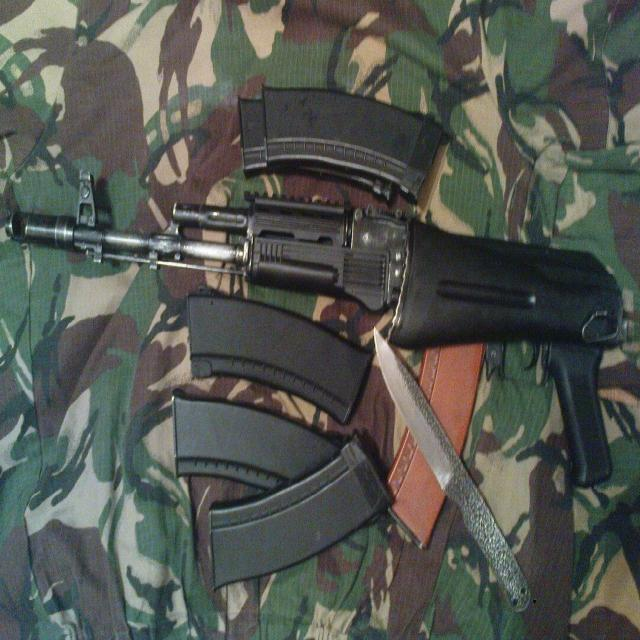firearm: (6, 169, 616, 486)
knife: (372, 326, 534, 616)
